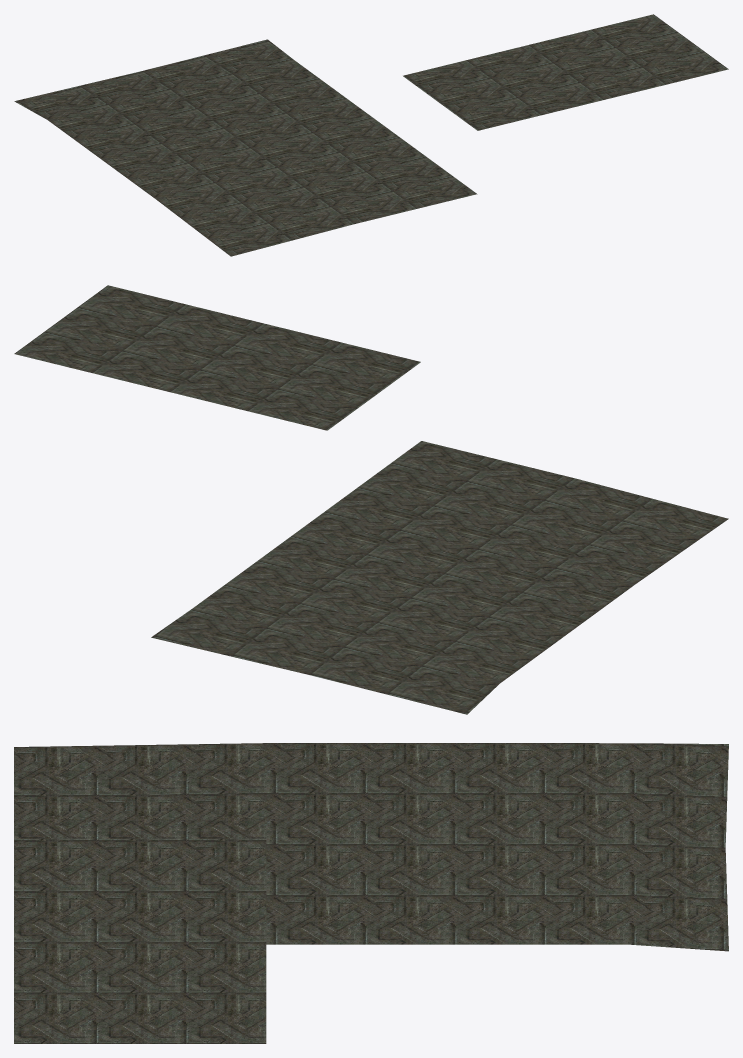
The model's file is CH09_SMAUG_PLAYSURFACE_LAIR101.fbx.
The picture shows the model from 3 angles, top to bottom: view 1: azimuth 30°, elevation 25°; view 2: azimuth 150°, elevation 25°; view 3: azimuth 270°, elevation 25°; orthographic projection. The views are drawn at different scales.
Parts seen in each view (by area): view 1: CH09_SMAUG_PLAYSURFACE_LAIR101; view 2: CH09_SMAUG_PLAYSURFACE_LAIR101; view 3: CH09_SMAUG_PLAYSURFACE_LAIR101.
Part boxes in pixels (x1,y1,x2,y2): CH09_SMAUG_PLAYSURFACE_LAIR101: (14, 14, 728, 256); CH09_SMAUG_PLAYSURFACE_LAIR101: (14, 285, 728, 714); CH09_SMAUG_PLAYSURFACE_LAIR101: (14, 743, 728, 1043).
Bounding box in the file's own units: 320707 × 40216 × 236408.
Materials: 1 (1 with a texture image).
